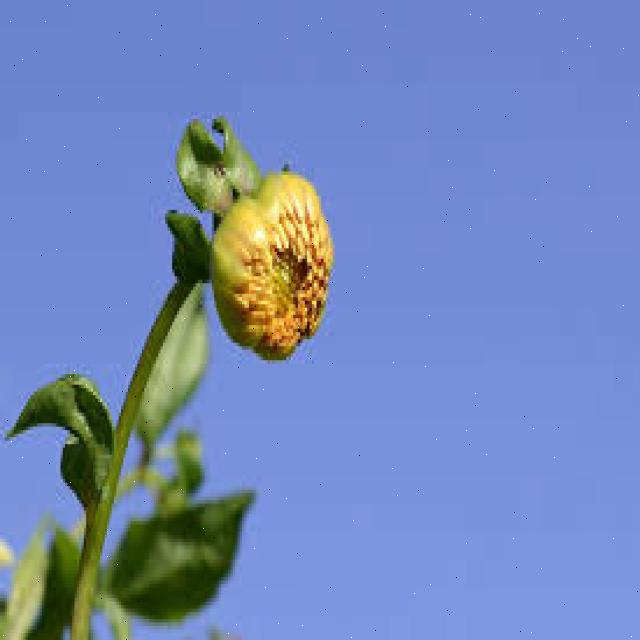Unbloomed: (207, 164, 333, 360)
